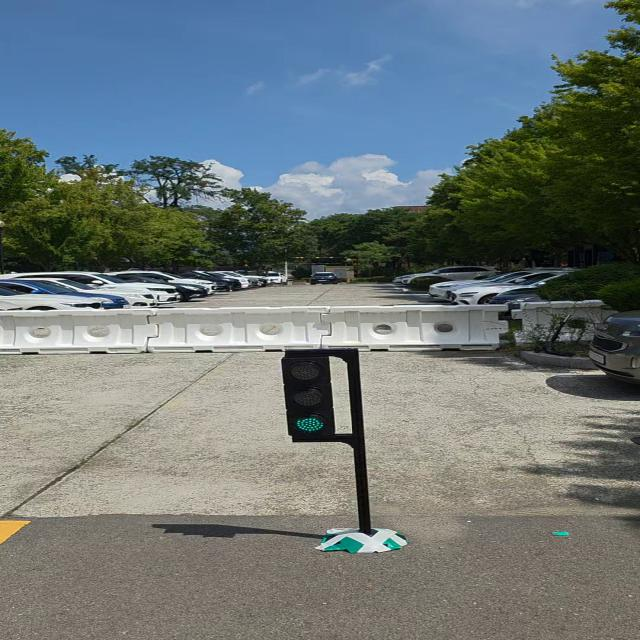green: (280, 357, 338, 440)
